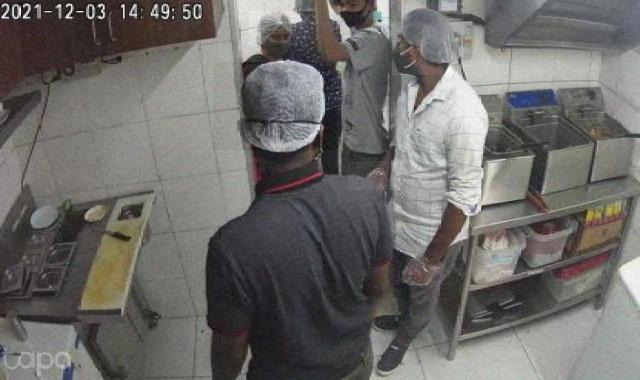apron: (394, 243, 449, 298), (349, 162, 402, 190)
gloves: (214, 61, 338, 150), (398, 4, 464, 74), (250, 12, 306, 48)
mask: (335, 0, 376, 35), (393, 40, 428, 76), (260, 32, 294, 56)
